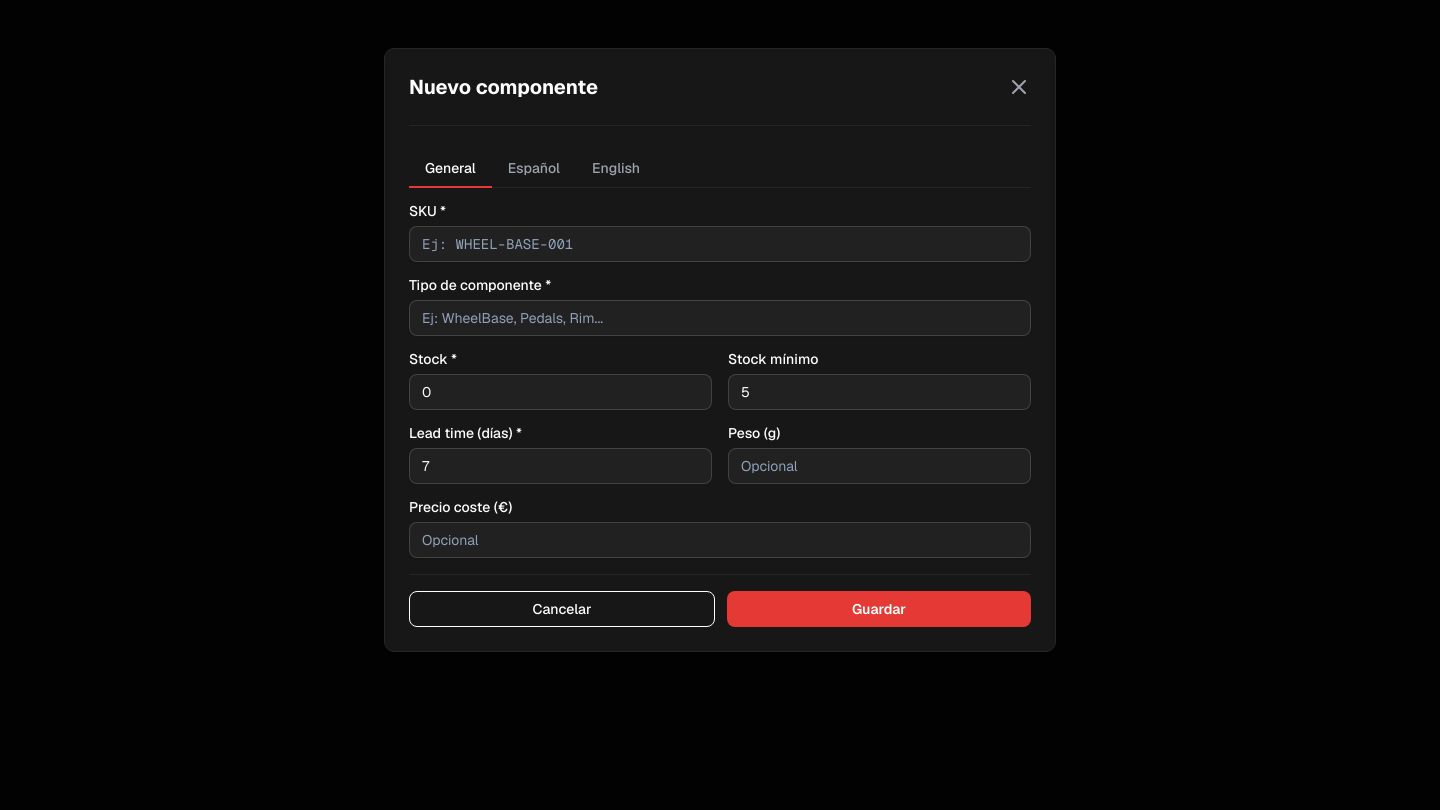
Test: ComponentModal › creación › en pestaña Español muestra campo de nombre
Click the button "Español".
click(534, 169)  # box [492,150,576,188]
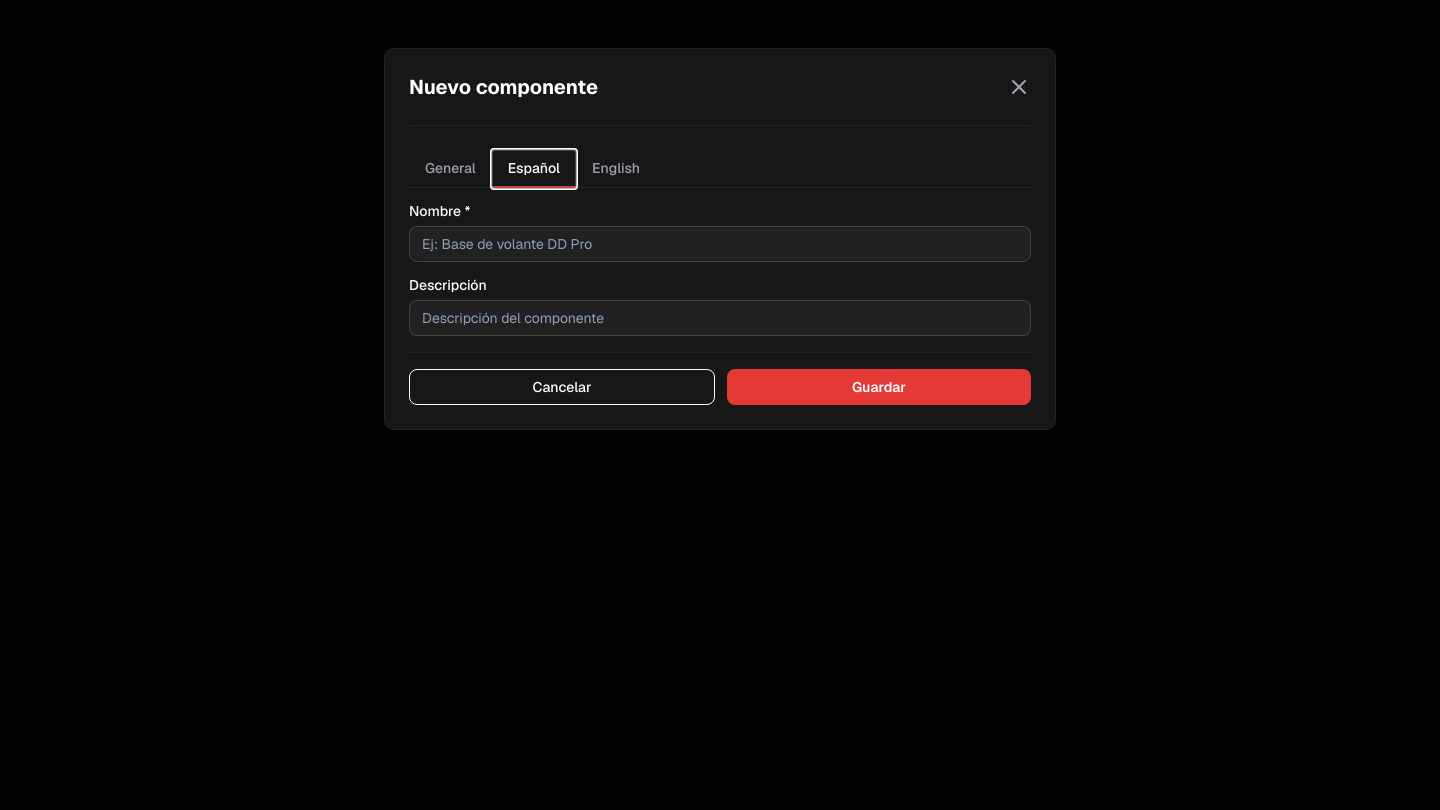
Expected: the field labelled "Nombre *" is shown, [409,226,1031,262]
